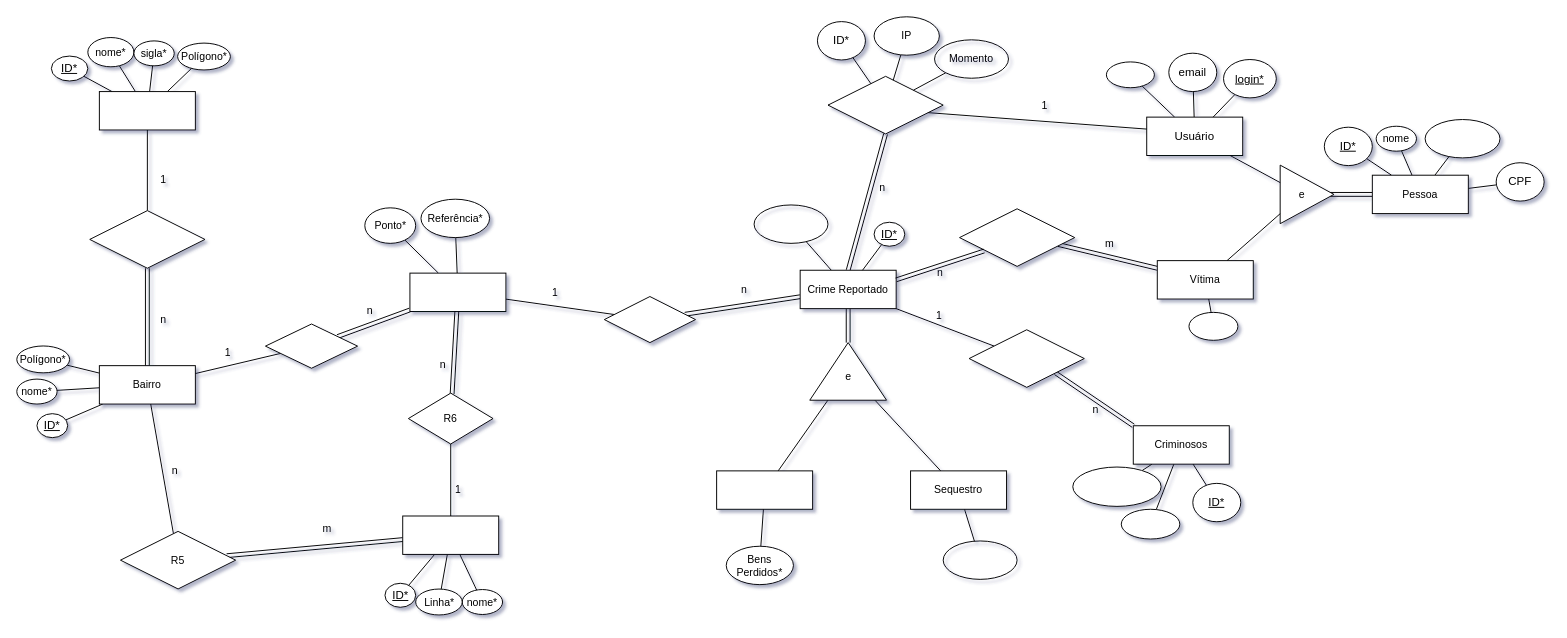
The diagram is 1567 pixels wide and 638 high, and some of its shapes have lost their labels. Each missing label, with the centre of its shape:
"Cidade" goes at point 146,110.
"data de nascimento" goes at point 1462,138.
"Descrição" goes at point 1150,523.
"Endereço do Crime Reportado" goes at point 457,292.
"Logradouro" goes at point 450,534.
"Momento do Crime*" goes at point 790,223.
"Momento Liberto" goes at point 979,559.
"Quantidade de Indivíduos" goes at point 1116,486.
"R1" goes at point 885,104.
"R2" goes at point 1017,237.
"R3" goes at point 1026,358.
"R4" goes at point 147,239.
"R7" goes at point 311,345.
"R8" goes at point 649,319.
"Roubo" goes at point 764,489.
"status*" goes at point 1129,74.
"Vivo" goes at point 1213,325.
